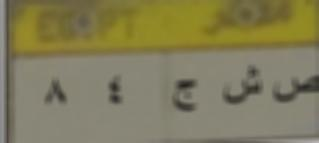4: (104, 73, 128, 108)
8: (43, 73, 70, 113)
jeem: (170, 76, 200, 117)
saad: (272, 72, 319, 107)
sheen: (218, 60, 267, 113)
